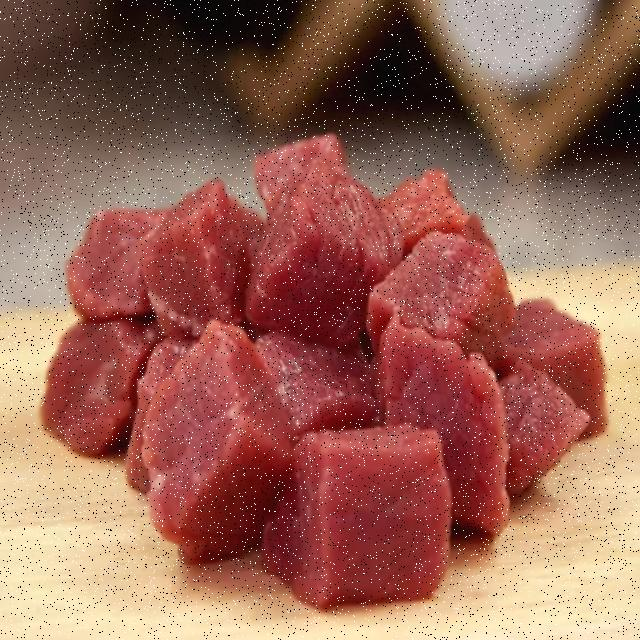Mutton: (11, 137, 613, 595)
